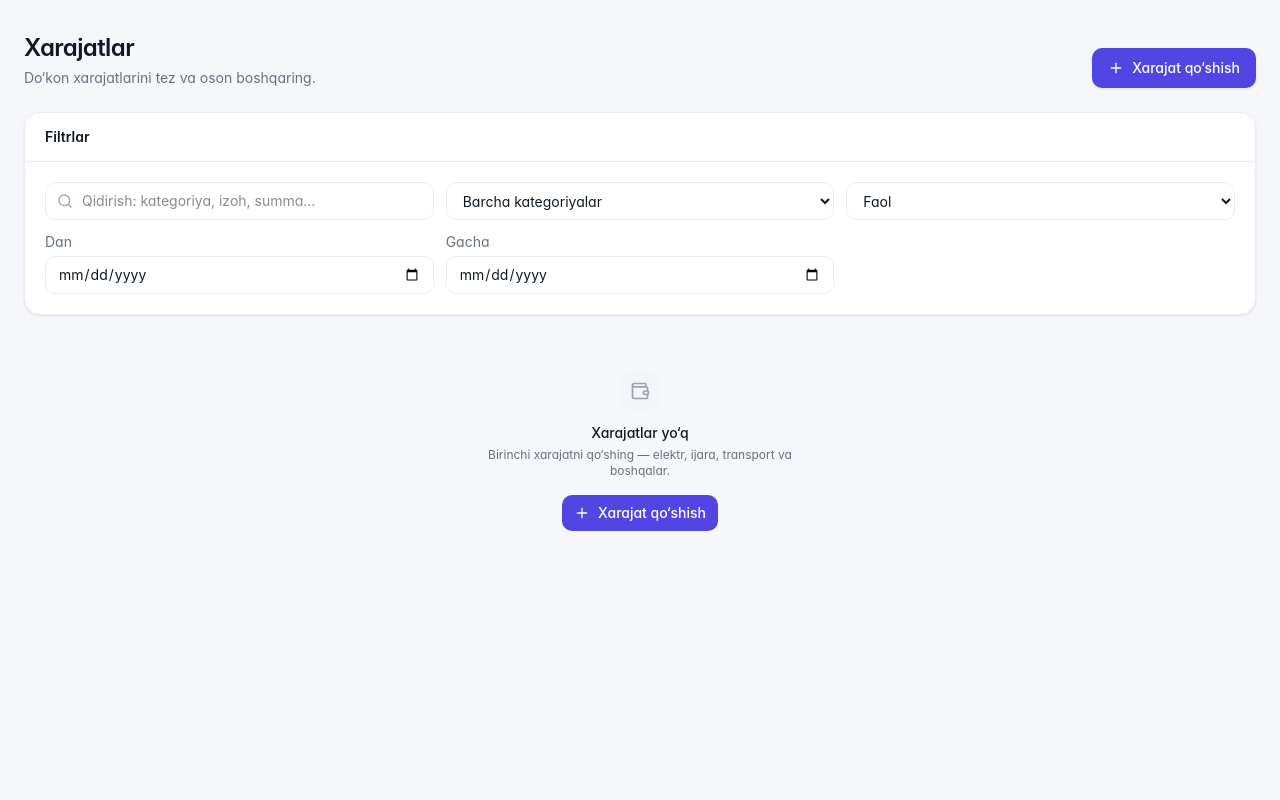
Test: ExpensesPage › validates required category and positive amount
Click the 1st button "Xarajat qo‘shish" at [1174, 68], box [1092,48,1256,88]
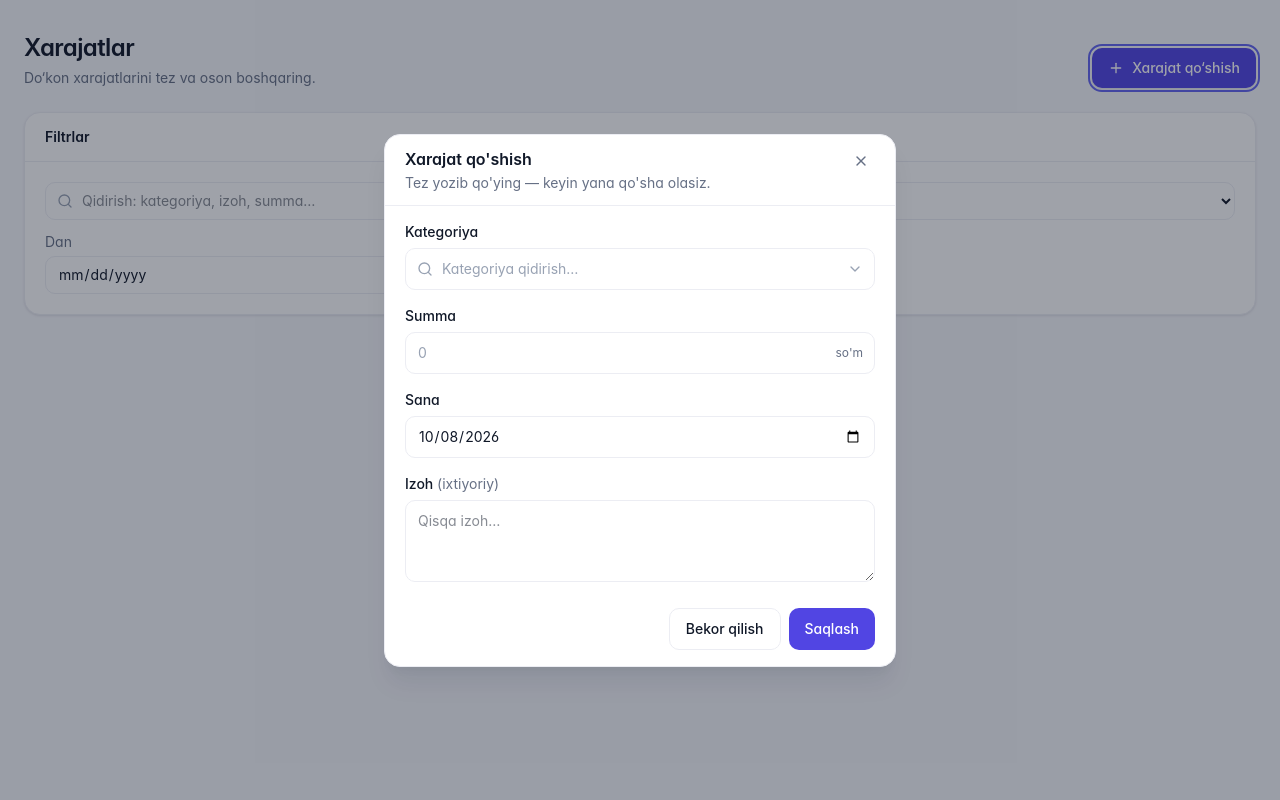
Click the button "Saqlash" at [832, 628], box [788,608,875,650]
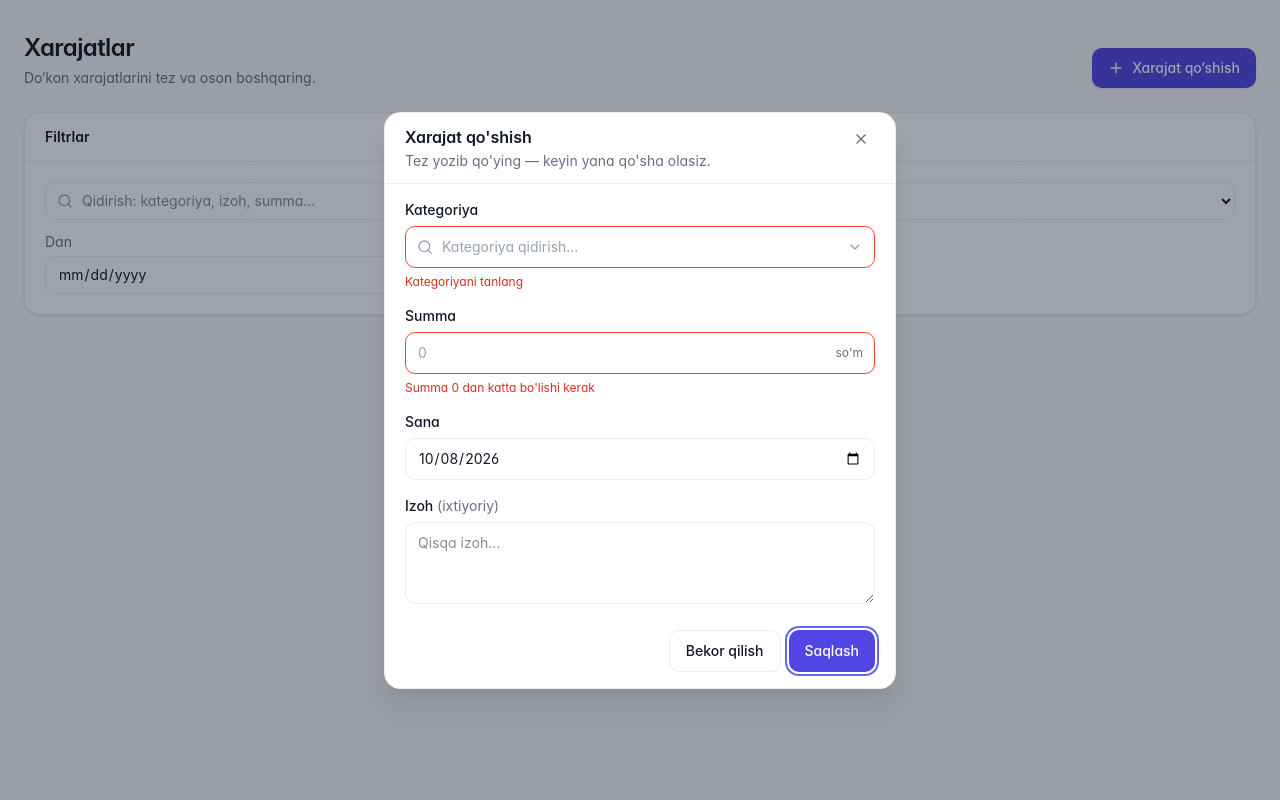
Expected: the text "Kategoriyani tanlang" is shown, [405,274,523,288]
Expected: the text "Summa 0 dan katta bo'lishi kerak" is shown, [405,380,595,394]
